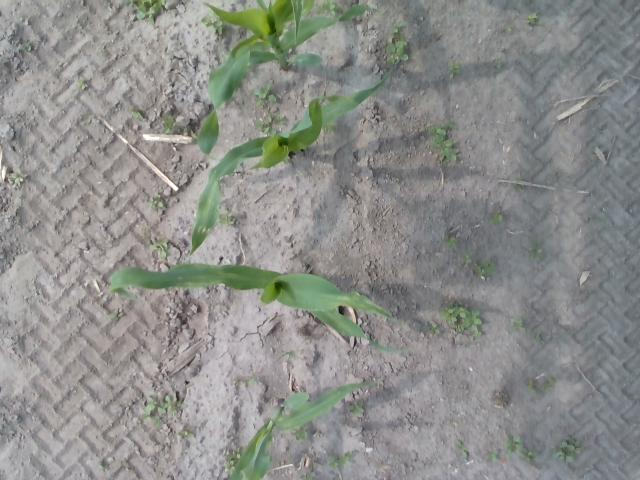Maize: (186, 80, 385, 258), (198, 2, 380, 157), (108, 266, 406, 357), (224, 380, 371, 479)
Weeds: (444, 306, 484, 333), (125, 0, 163, 19), (554, 437, 580, 462), (151, 237, 171, 259), (528, 378, 556, 393), (146, 397, 168, 416), (438, 141, 458, 161), (388, 42, 408, 61), (256, 84, 277, 102), (429, 126, 446, 147), (506, 436, 523, 454), (254, 118, 273, 134), (159, 115, 174, 134), (476, 262, 496, 276), (456, 440, 469, 457), (204, 18, 222, 30), (486, 450, 502, 462), (328, 456, 341, 470), (449, 66, 462, 80), (164, 394, 175, 410), (512, 319, 526, 331), (492, 210, 504, 224), (324, 3, 336, 16), (293, 428, 307, 439), (523, 450, 535, 462), (528, 15, 540, 26), (351, 404, 364, 414), (448, 235, 458, 248), (178, 432, 194, 440), (429, 323, 440, 334), (462, 254, 472, 266), (394, 24, 406, 34), (78, 80, 89, 90), (14, 173, 22, 185), (150, 198, 158, 209), (342, 454, 350, 463), (530, 245, 540, 252), (534, 332, 542, 340)
